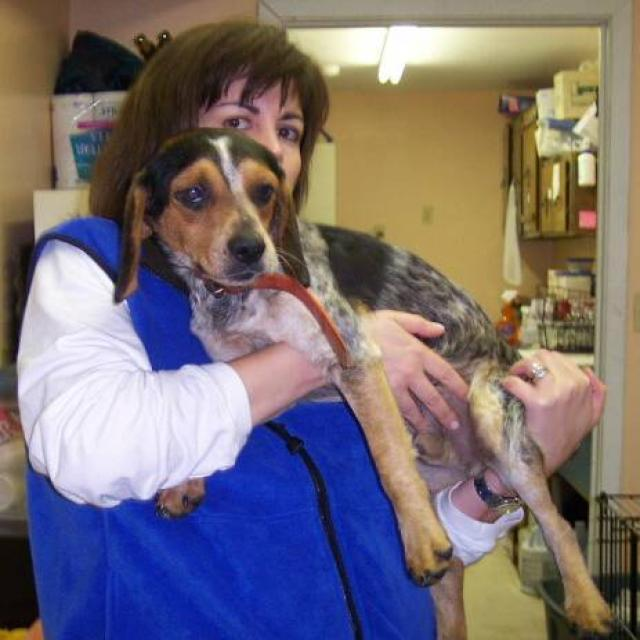dogs: (132, 125, 614, 625)
